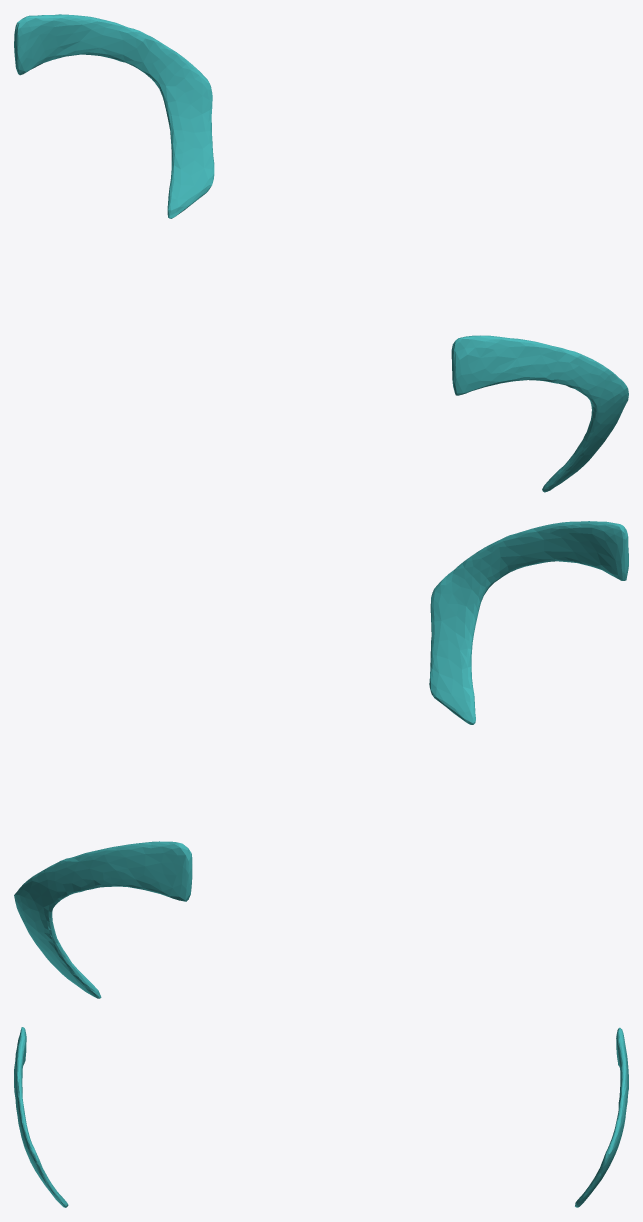
The picture shows the model from 3 angles, top to bottom: view 1: azimuth 30°, elevation 25°; view 2: azimuth 150°, elevation 25°; view 3: azimuth 270°, elevation 25°; orthographic projection. The views are drawn at different scales.
Parts seen in each view (by area): view 1: 97.obj; view 2: 97.obj; view 3: 97.obj.
Boxes of the visible parts, left/top/right/bottom form: 97.obj: left=14, top=14, right=628, bottom=492; 97.obj: left=14, top=521, right=628, bottom=998; 97.obj: left=14, top=1027, right=628, bottom=1207.
Size of the model in its own units: 2472 by 2609 by 10327.
